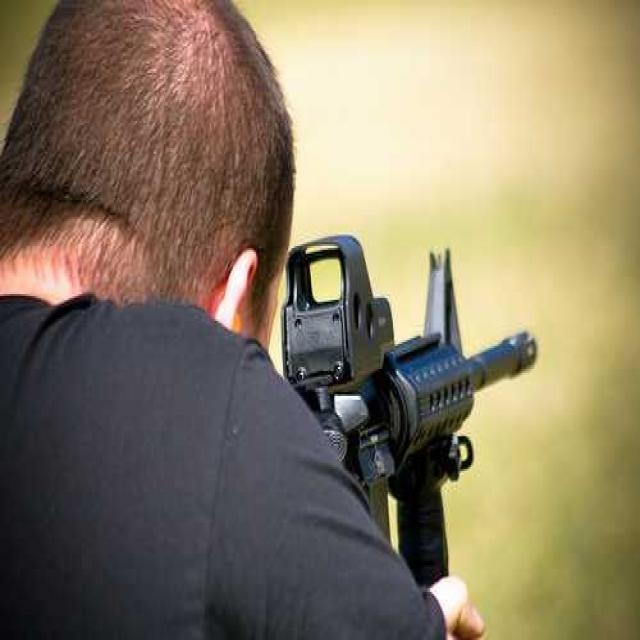heavyweapon: (272, 205, 549, 593)
